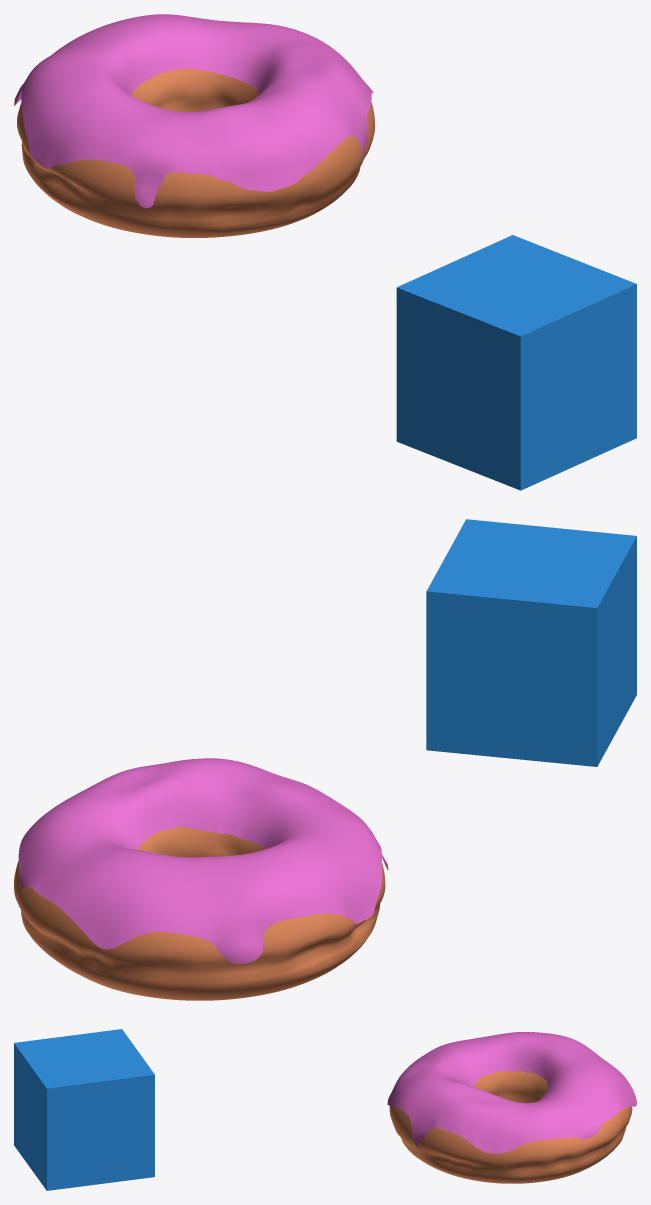
Rendered from donutblend3.glb.
3 views of the same model, one above another, from view 1: azimuth 30°, elevation 25°; view 2: azimuth 150°, elevation 25°; view 3: azimuth 270°, elevation 25° (orthographic). The views are drawn at different scales.
Parts seen in each view (by area): view 1: Cube, icing, donut; view 2: icing, Cube, donut; view 3: Cube, icing, donut.
Part boxes in pixels (x1,y1,x2,y2): Cube: [396, 235, 636, 490]; icing: [14, 14, 373, 208]; donut: [17, 68, 375, 237]; icing: [18, 758, 388, 964]; Cube: [426, 519, 636, 766]; donut: [14, 826, 385, 1000]; Cube: [14, 1029, 154, 1190]; icing: [387, 1032, 636, 1153]; donut: [389, 1071, 632, 1183].
Size of what is drawn, in the model's own units: 0.1513 by 0.07 by 0.386.
